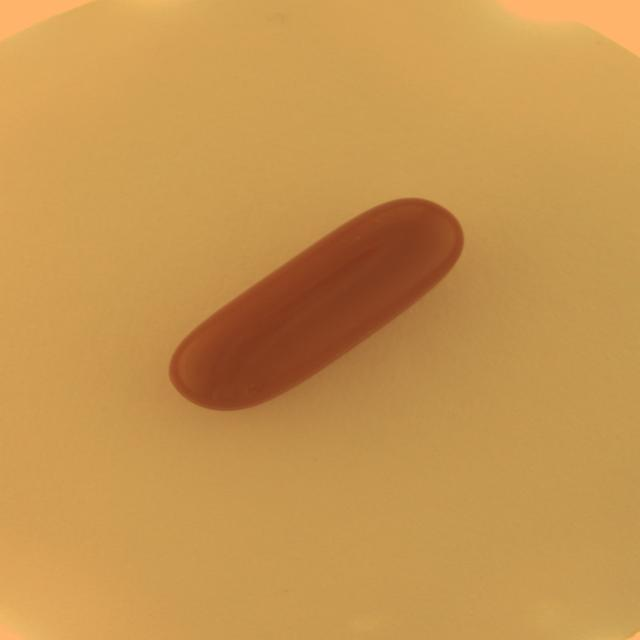Oval: (160, 195, 468, 417)
